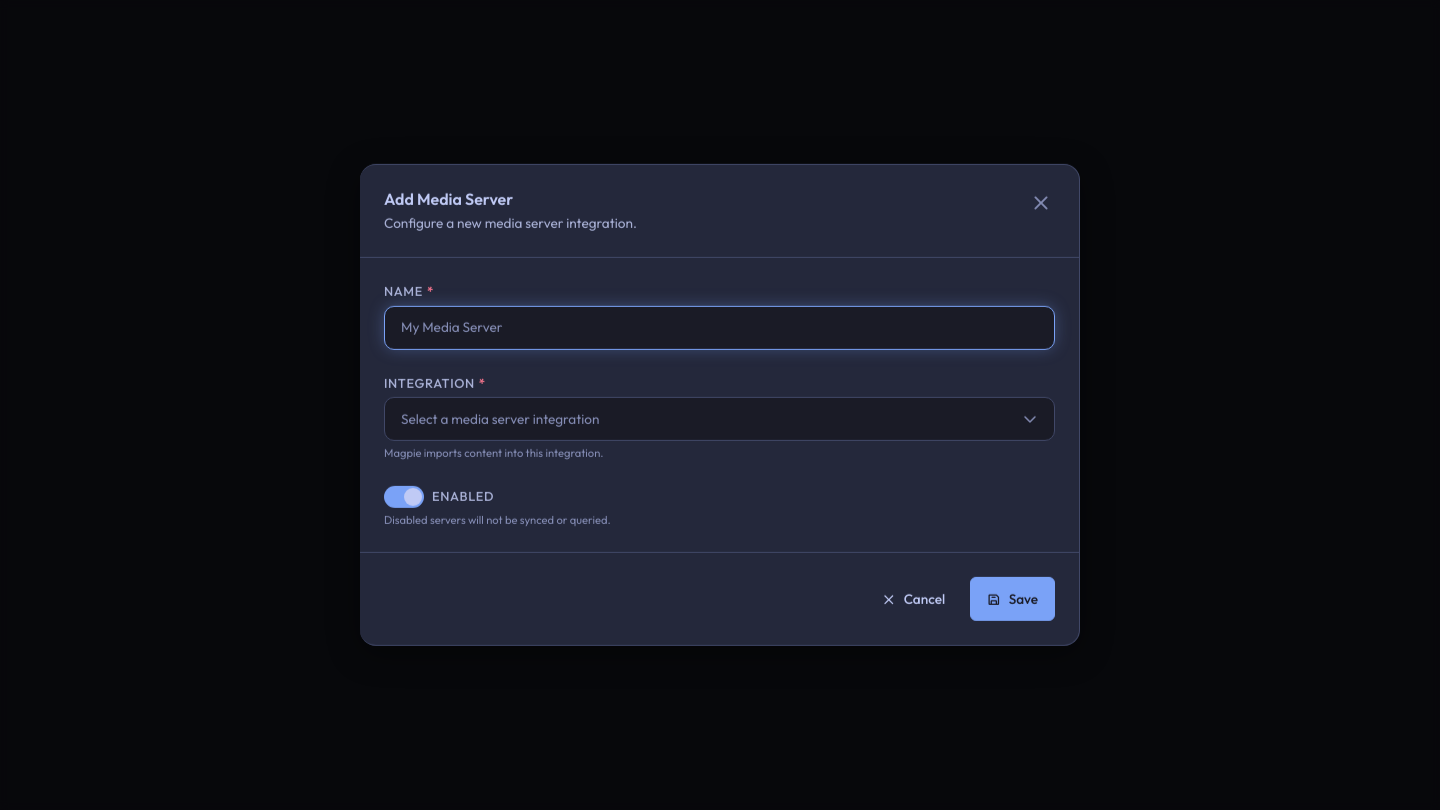
Scenario: MediaServerForm › shows validation error when integration is empty on submit
Type "Test Server" into the field labelled "Name *". click: (720, 327)
box: [385, 309, 1054, 346]
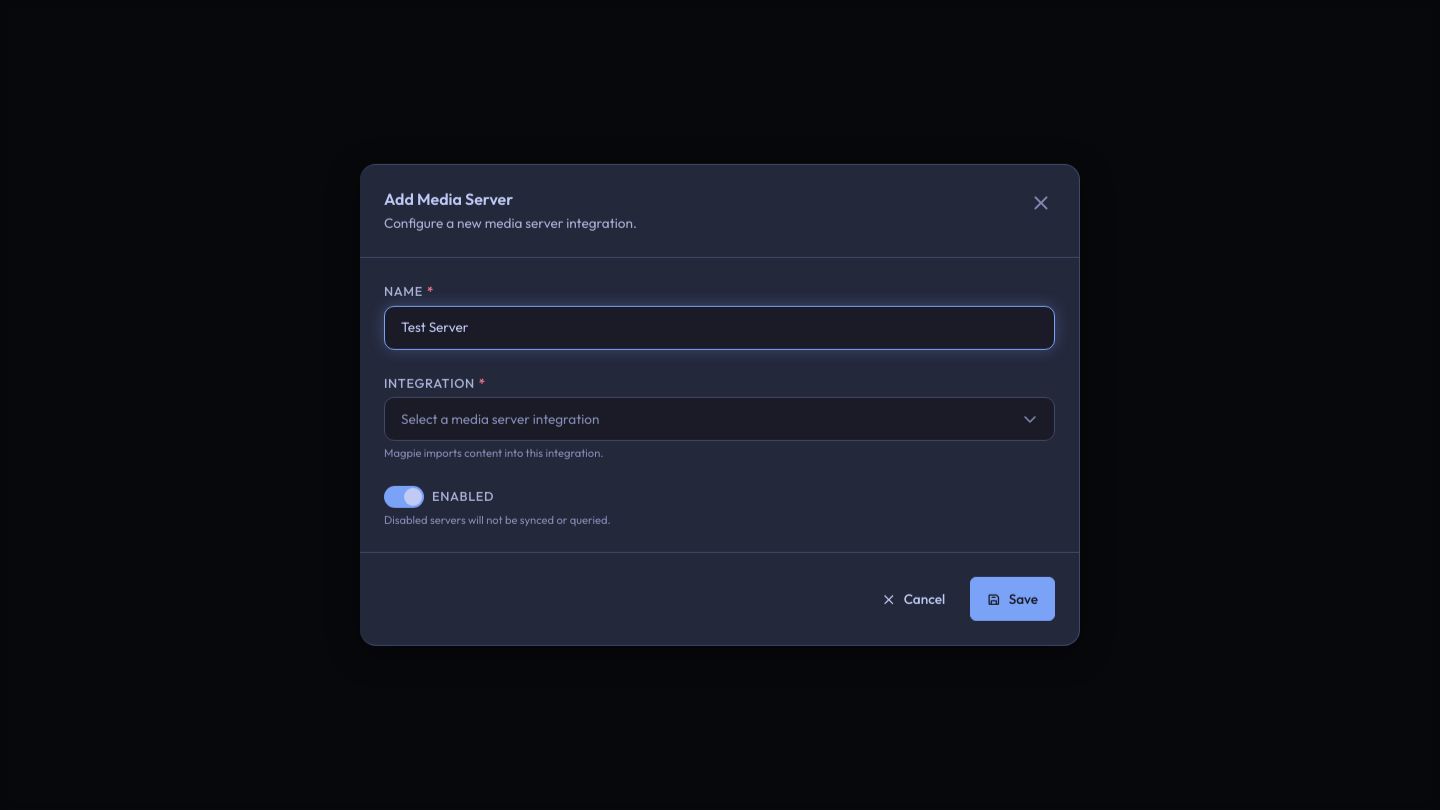
Click the button "Save". click: (1013, 599)
box: [970, 577, 1055, 621]
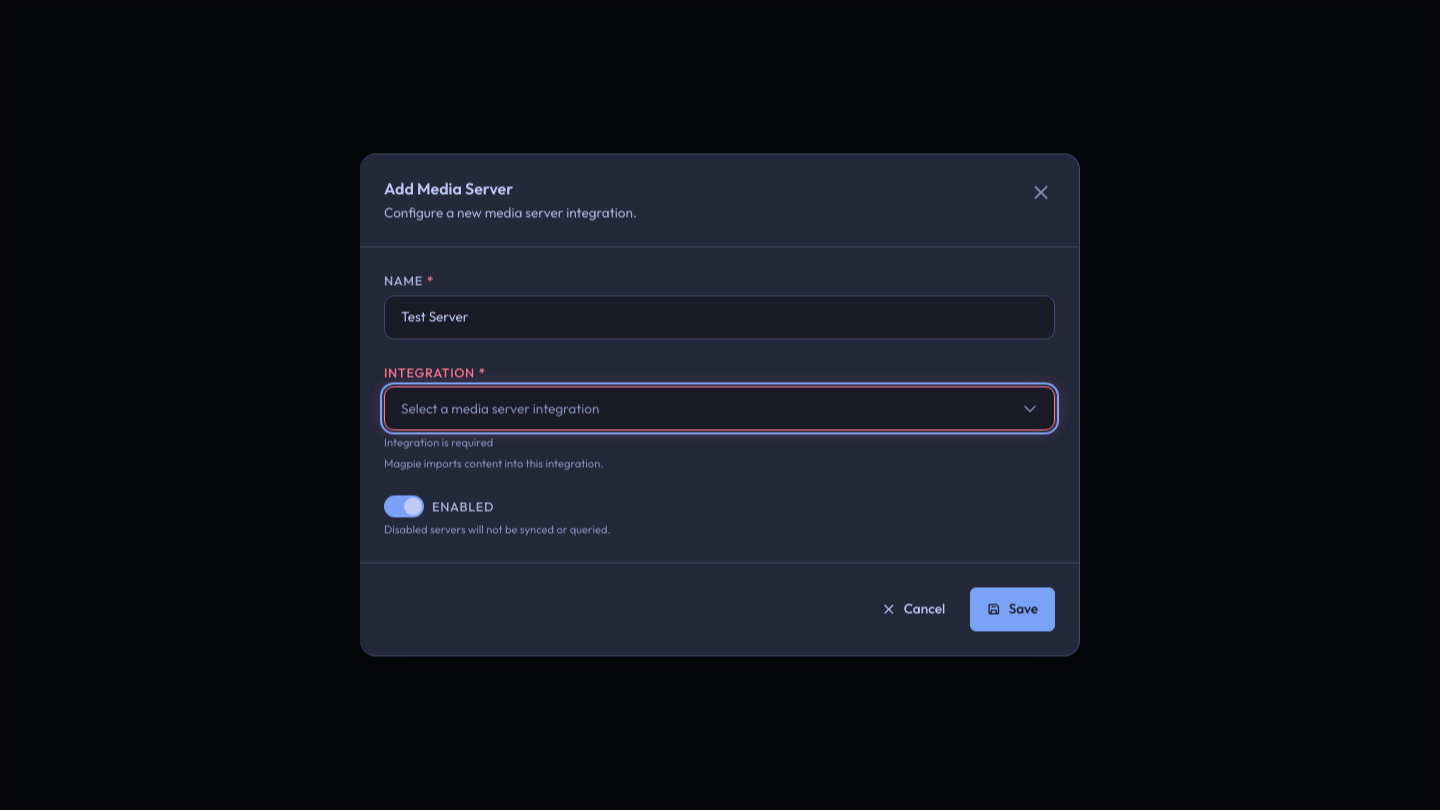
Result: the text "Integration is required" is shown at [384, 435, 493, 449]
